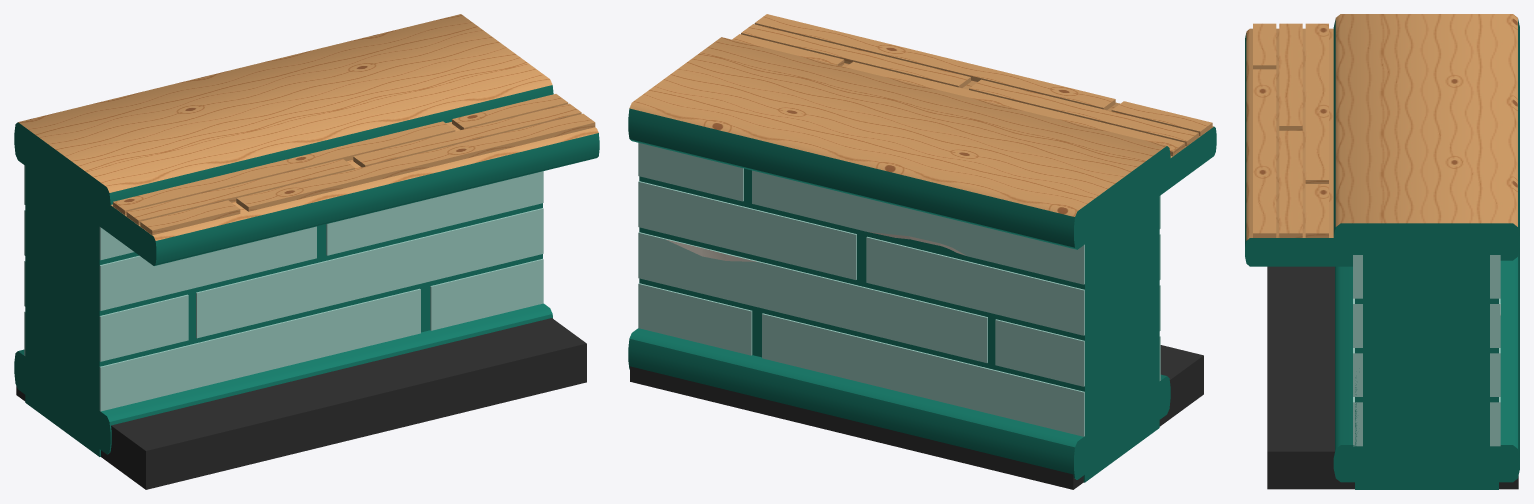
Rendered from island_a.glb.
The picture shows the model from 3 angles, left to right: view 1: azimuth 30°, elevation 25°; view 2: azimuth 150°, elevation 25°; view 3: azimuth 270°, elevation 25°; orthographic projection. The views are drawn at different scales.
Parts seen in each view (by area): view 1: body; view 2: body; view 3: body.
Part boxes in pixels (left/top/right/bottom): body: left=14, top=14, right=599, bottom=489; body: left=628, top=14, right=1216, bottom=489; body: left=1245, top=14, right=1519, bottom=489.
Bounding box in the file's own units: 1.55 × 0.92 × 0.86.
5 materials, 1 textured.
